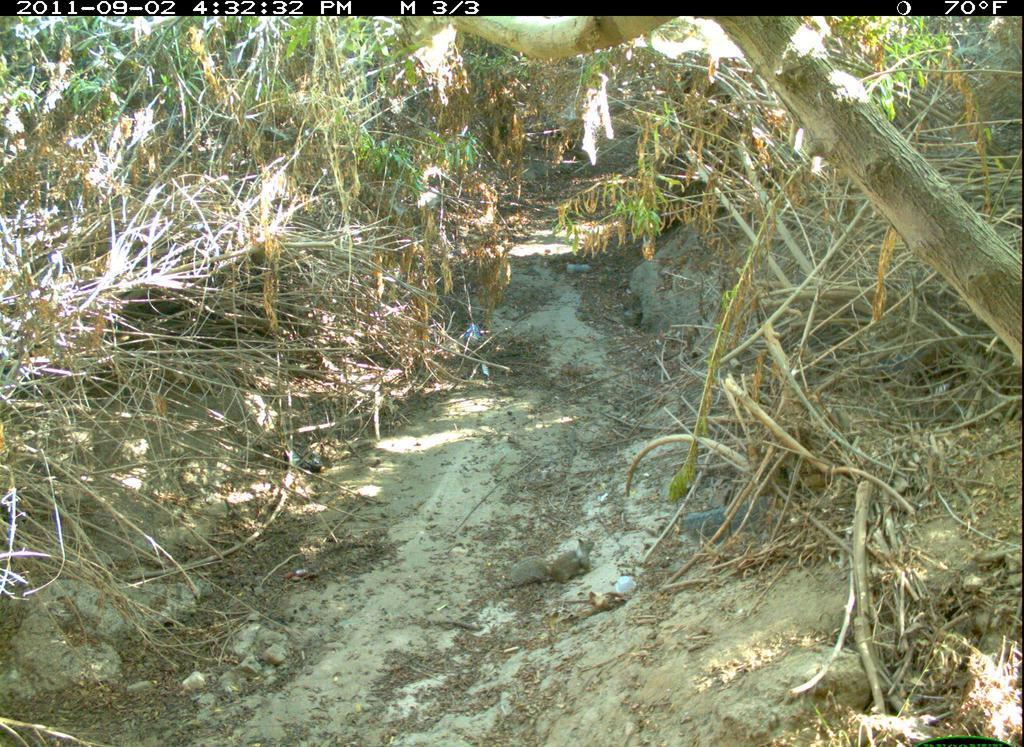squirrel: (506, 528, 607, 602)
